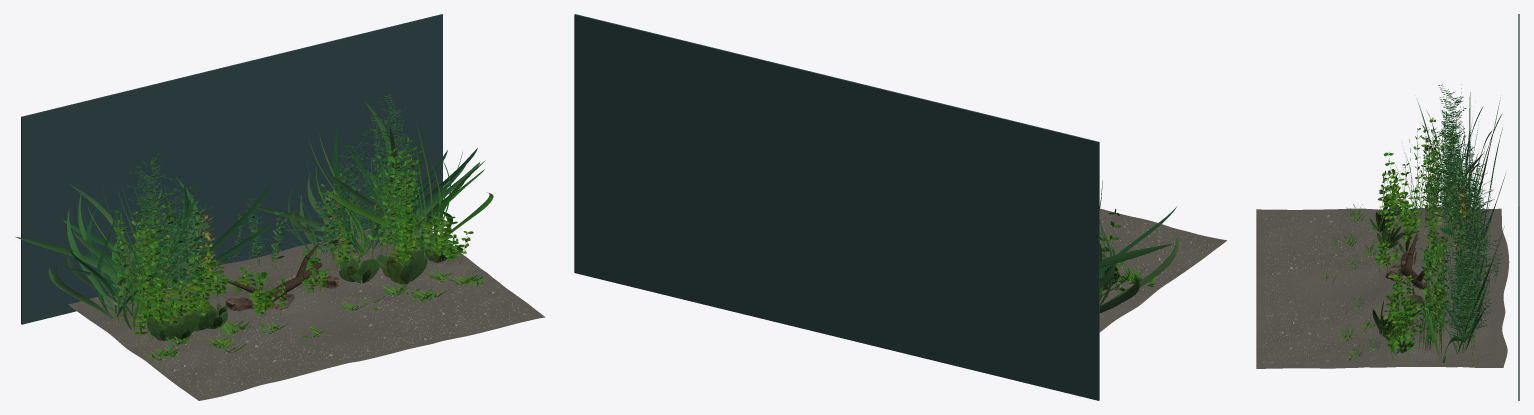
The model's file is environment.glb.
The picture shows the model from 3 angles, left to right: view 1: azimuth 30°, elevation 25°; view 2: azimuth 150°, elevation 25°; view 3: azimuth 270°, elevation 25°; orthographic projection. The views are drawn at different scales.
Visible parts, largest first — view 1: blue water background.001, undulating natural gravel bed.001, 01 flowing ribbon plants.001, 04 medium stems.001, 05 irregular small leaf bushes.001, 03 fine feather plants.001, fine gravel openings.001, 02 tall grass.001, supporting stems.001, 06 broad leaves.001, 07 low foreground plants.001; view 2: blue water background.001, undulating natural gravel bed.001, 01 flowing ribbon plants.001, fine gravel openings.001; view 3: undulating natural gravel bed.001, 03 fine feather plants.001, fine gravel openings.001, 05 irregular small leaf bushes.001, supporting stems.001, 04 medium stems.001, 01 flowing ribbon plants.001, 02 tall grass.001, 06 broad leaves.001, 07 low foreground plants.001, blue water background.001, scattered embedded foreground gravel.001.
Boxes of the visible parts, x1,y1,x2,y2 form: blue water background.001: (21, 14, 442, 324); undulating natural gravel bed.001: (68, 223, 544, 400); 01 flowing ribbon plants.001: (15, 100, 493, 319); 04 medium stems.001: (112, 136, 423, 306); 05 irregular small leaf bushes.001: (134, 204, 473, 334); 03 fine feather plants.001: (106, 94, 427, 295); fine gravel openings.001: (81, 235, 534, 395); 02 tall grass.001: (80, 122, 462, 331); supporting stems.001: (117, 104, 467, 343); 06 broad leaves.001: (146, 243, 453, 341); 07 low foreground plants.001: (143, 270, 485, 360); blue water background.001: (574, 14, 1099, 400); undulating natural gravel bed.001: (1099, 208, 1226, 332); 01 flowing ribbon plants.001: (1099, 206, 1178, 313); fine gravel openings.001: (1099, 213, 1212, 321); undulating natural gravel bed.001: (1256, 208, 1509, 368); 03 fine feather plants.001: (1429, 84, 1502, 338); fine gravel openings.001: (1261, 210, 1492, 366); 05 irregular small leaf bushes.001: (1374, 152, 1450, 354); supporting stems.001: (1379, 95, 1498, 360); 04 medium stems.001: (1413, 116, 1493, 334); 01 flowing ribbon plants.001: (1413, 92, 1505, 362); 02 tall grass.001: (1396, 84, 1495, 352); 06 broad leaves.001: (1369, 198, 1426, 353); 07 low foreground plants.001: (1319, 204, 1380, 362); blue water background.001: (1518, 14, 1519, 400); scattered embedded foreground gravel.001: (1267, 214, 1407, 361).
Size of the model in its own units: 18.93 by 8 by 9.83.
Materials: 32 (5 with a texture image).
